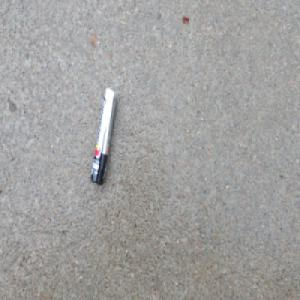Battery: (88, 85, 117, 188)
